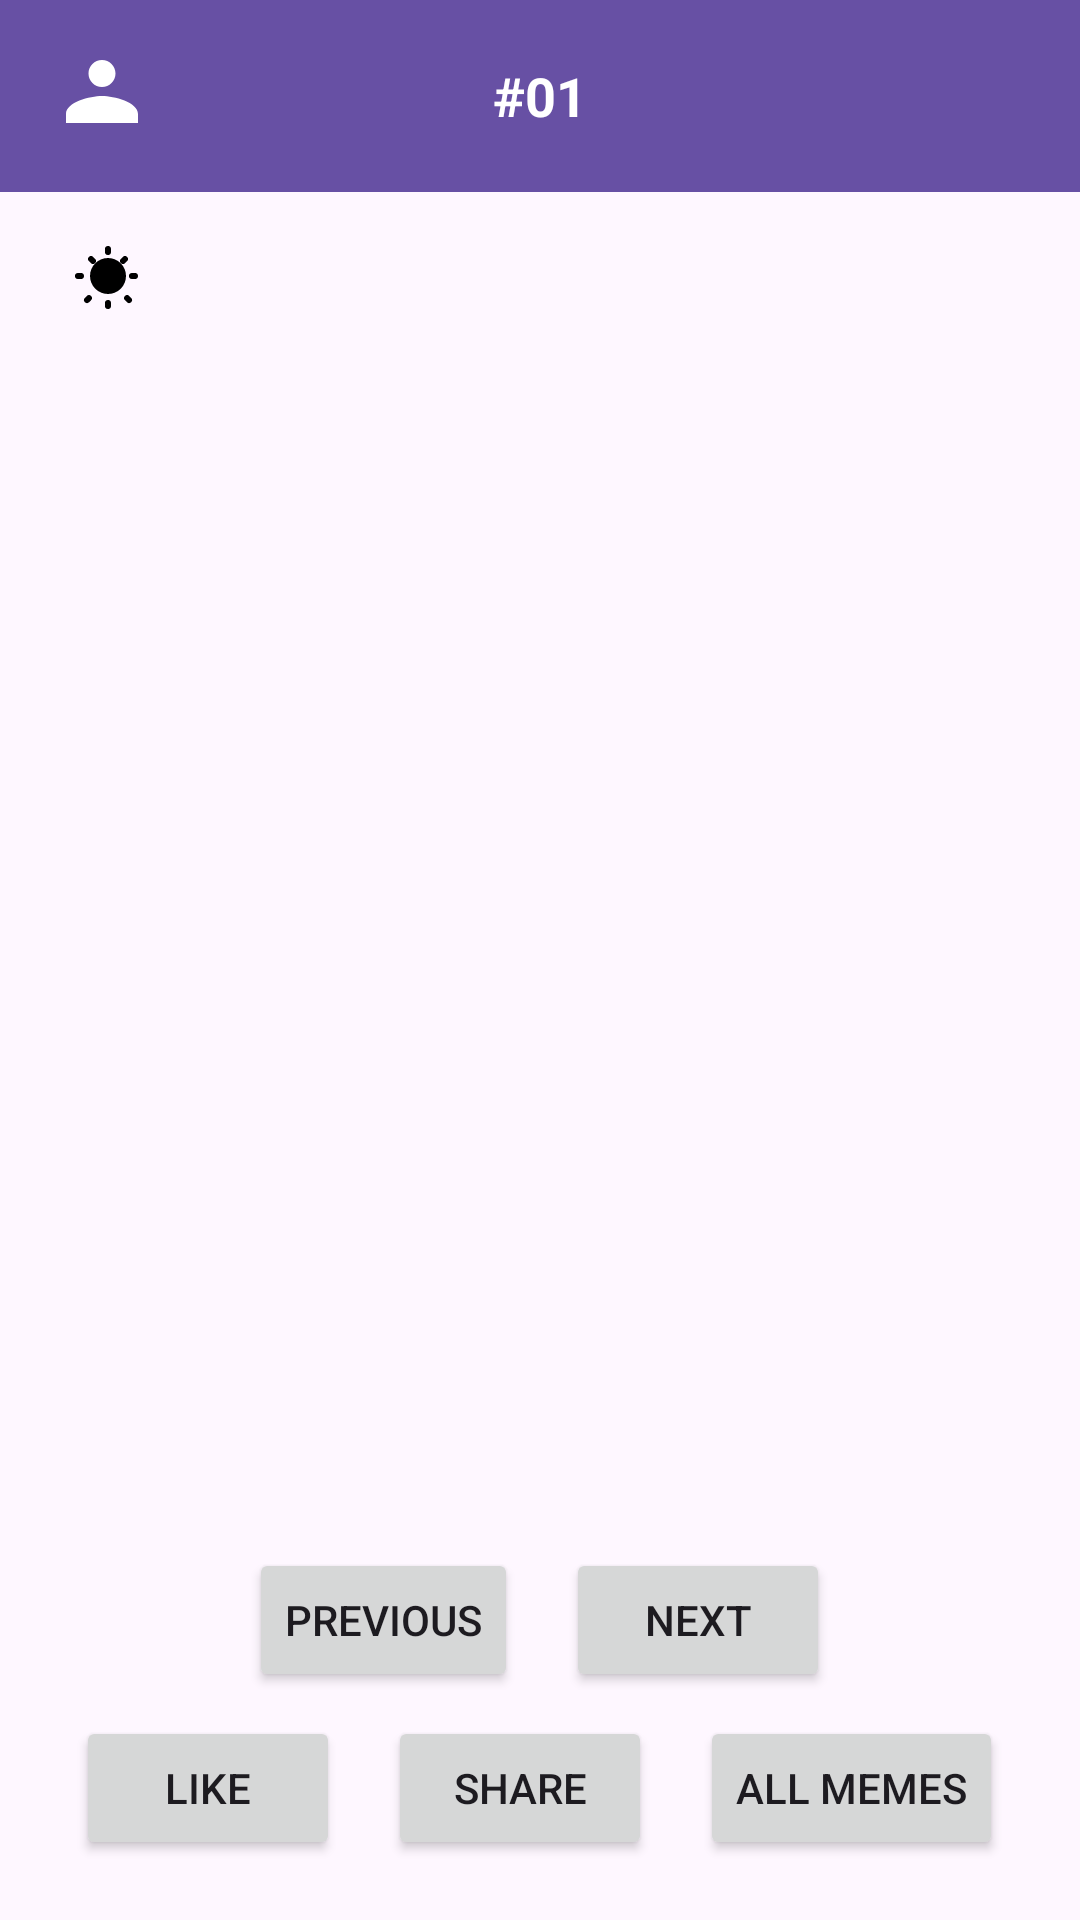

Screen size 1080 × 1920. Icon name, then its center in pixels as (x=x, y=y):
Theme Switcher: (x=106, y=277)
